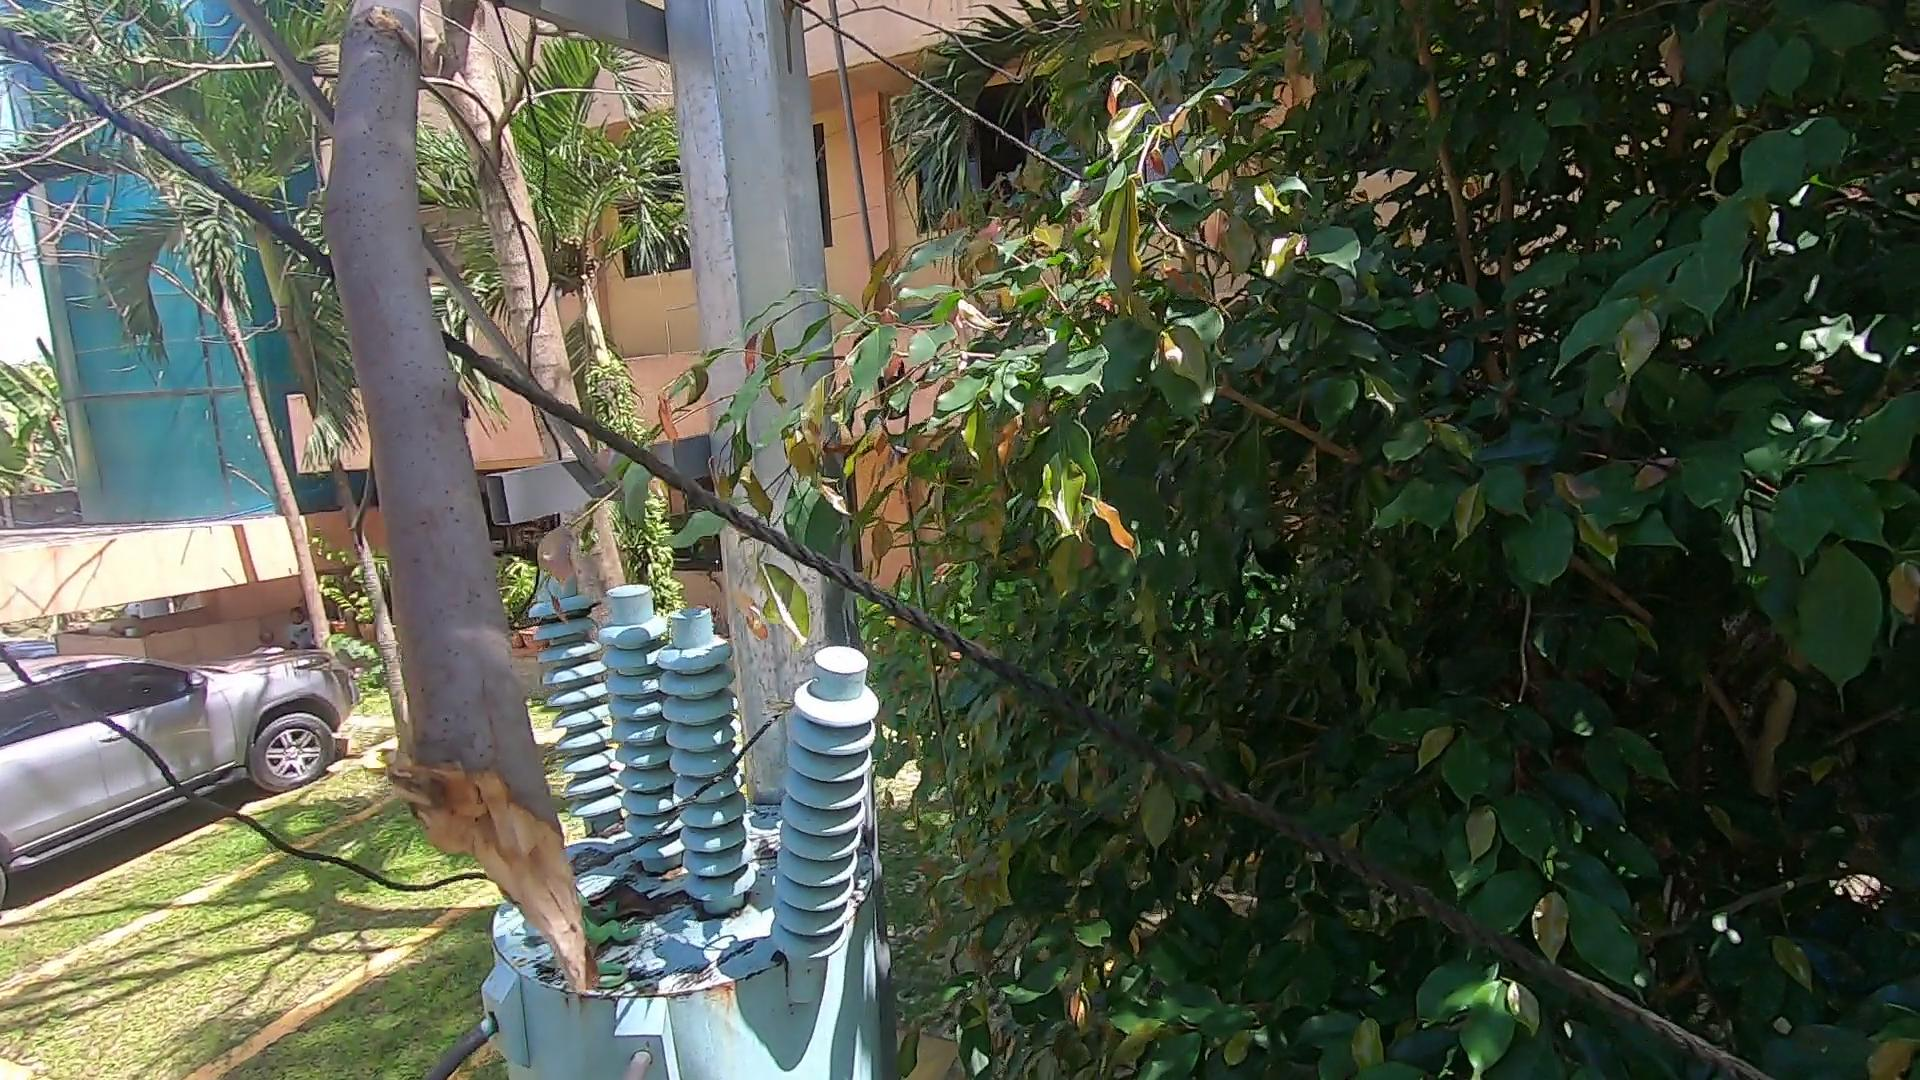branch with leaves: (562, 351, 891, 690)
leaf: (591, 887, 703, 922), (572, 820, 632, 836)
tree branch: (260, 1, 716, 1038)
